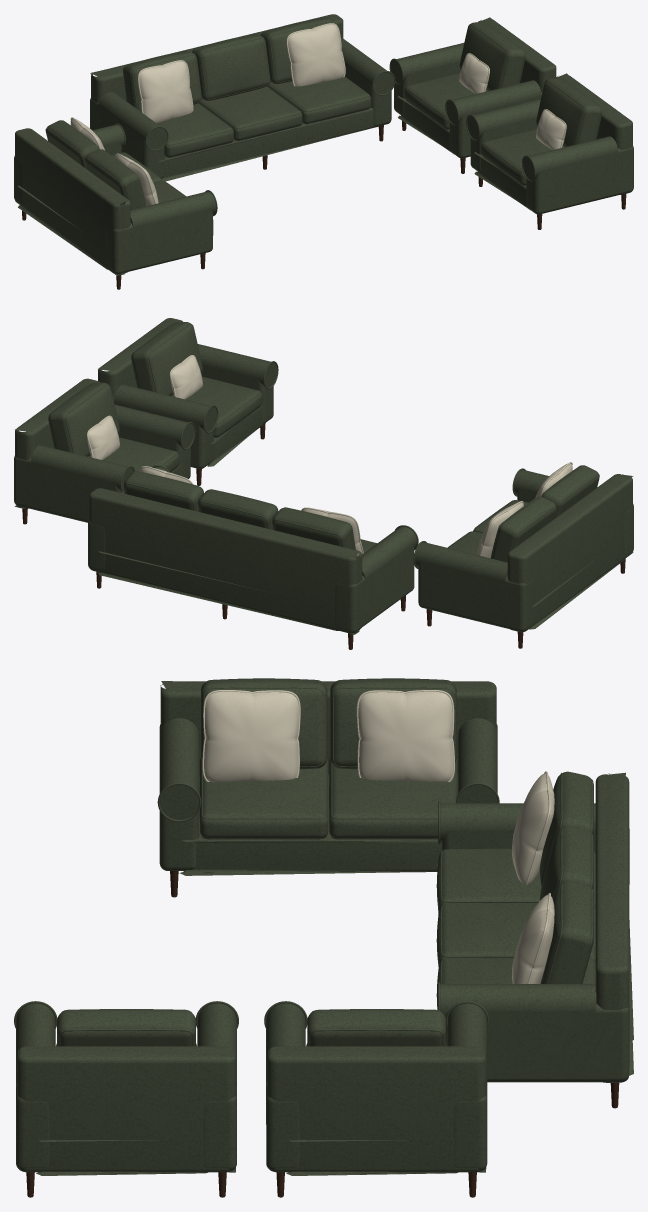
The model's file is milan-3211-p2.glb.
3 views of the same model, one above another, from view 1: azimuth 30°, elevation 25°; view 2: azimuth 150°, elevation 25°; view 3: azimuth 270°, elevation 25° (orthographic). The views are drawn at different scales.
Size of the model in its own units: 4.35 by 0.8877 by 2.97.
Materials: 5 (5 with a texture image).
